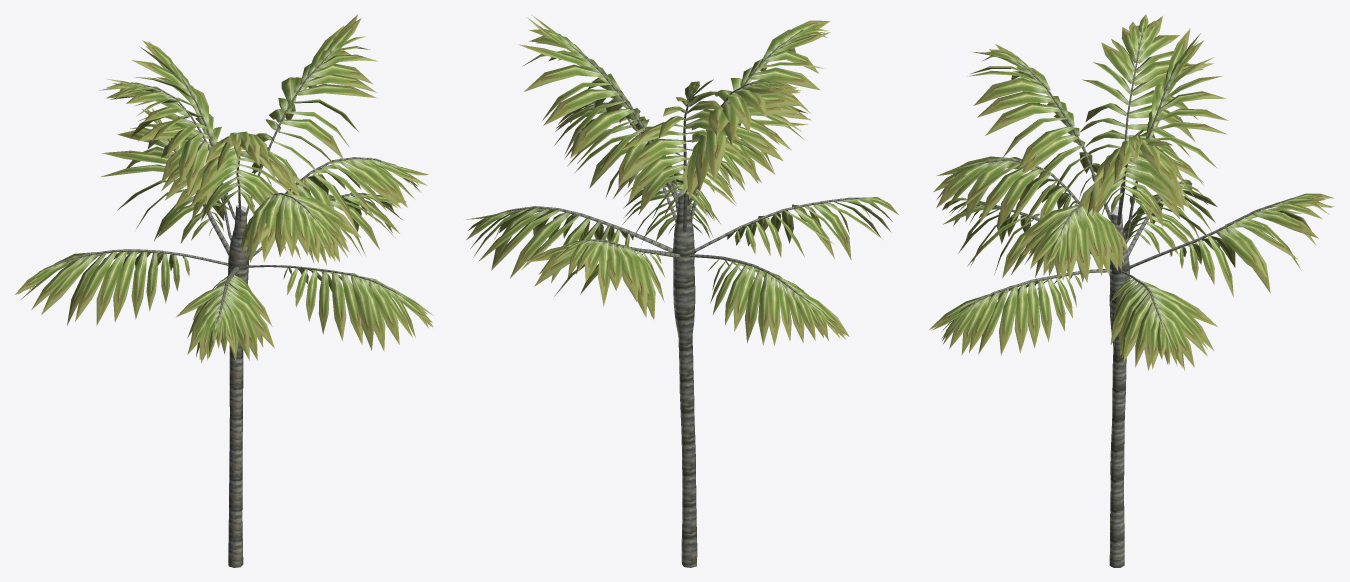
Rendered from New SpeedTree.fbx.
The picture shows the model from 3 angles, left to right: view 1: azimuth 30°, elevation 25°; view 2: azimuth 150°, elevation 25°; view 3: azimuth 270°, elevation 25°; orthographic projection. The views are drawn at different scales.
Parts seen in each view (by area): view 1: New_SpeedTree; view 2: New_SpeedTree; view 3: New_SpeedTree.
Boxes of the visible parts, bbox=[...] form: New_SpeedTree: bbox=[15, 14, 433, 567]; New_SpeedTree: bbox=[466, 14, 898, 567]; New_SpeedTree: bbox=[929, 14, 1334, 567].
Size of the model in its own units: 22.61 by 20.93 by 28.77.
